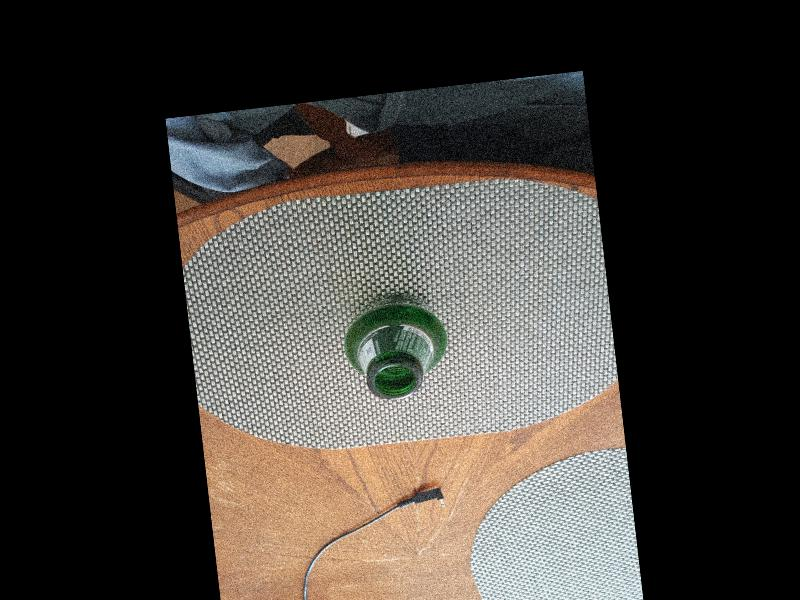Beer: (345, 289, 448, 402)
